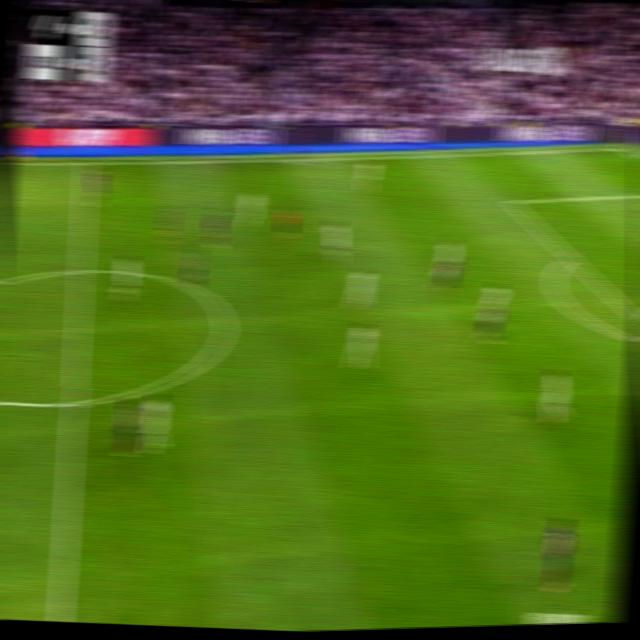bigarea_top_inner: (503, 196, 516, 206)
corner: (613, 142, 628, 151)
halfcircle_bottom: (62, 385, 86, 418)
halfcircle_top: (68, 256, 92, 284)
midline_top_intersection: (76, 155, 95, 171)
top_arc_area_intersection: (563, 250, 578, 264)
